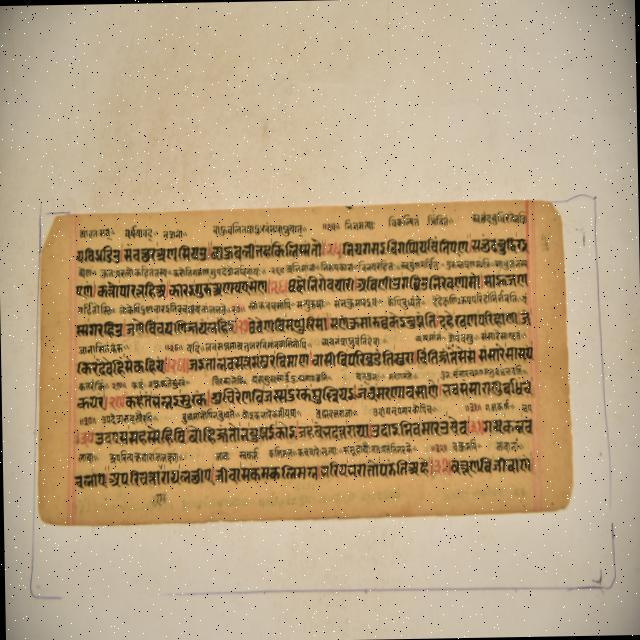text_paragraph: (35, 206, 573, 527)
